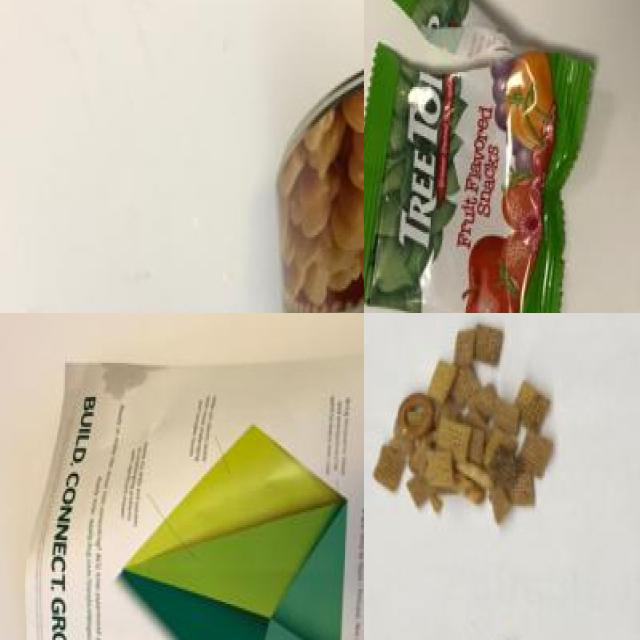compost: (364, 313, 587, 545)
paper: (15, 365, 364, 640)
plastic: (277, 34, 364, 313)
trash: (364, 0, 613, 313)
